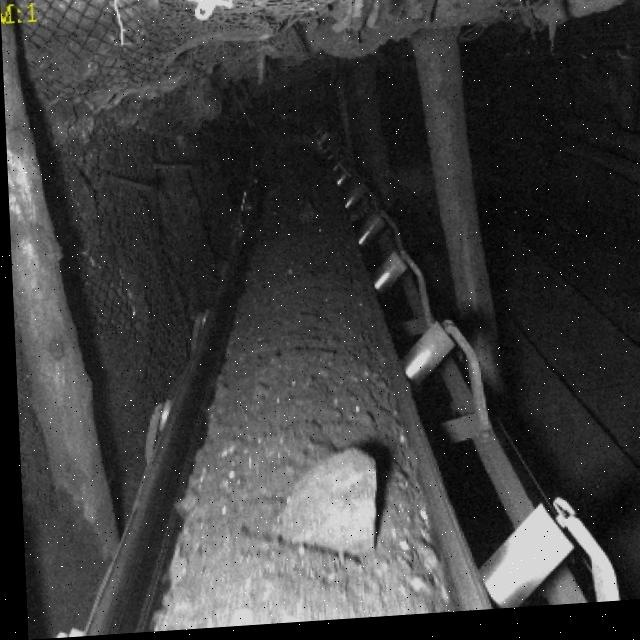large_sized_coal: (266, 453, 374, 560)
